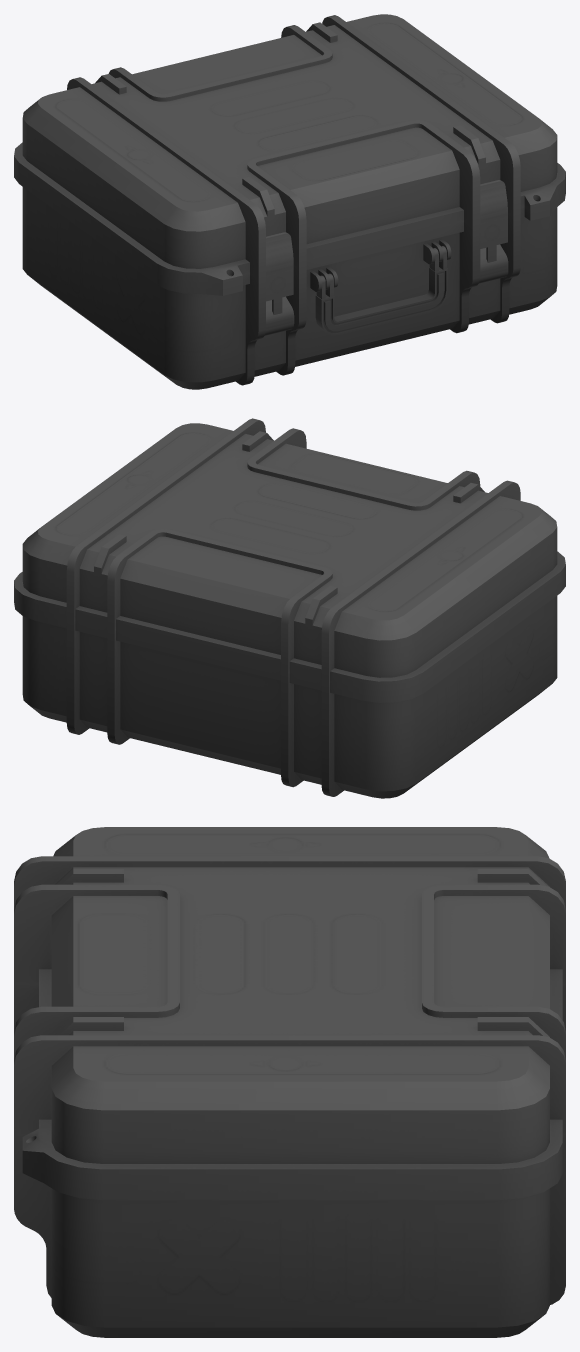
File: case_low.fbx
3 views of the same model, one above another, from view 1: azimuth 30°, elevation 25°; view 2: azimuth 150°, elevation 25°; view 3: azimuth 270°, elevation 25° (orthographic). The views are drawn at different scales.
Visible parts, largest first — view 1: caseup_low, case_low, casehandle_low, caseop_low.001, caseop_low, casedeco_low; view 2: caseup_low, case_low; view 3: caseup_low, case_low.
Boxes of the visible parts, x1=… form: caseup_low: x1=14, y1=14, x2=565, y2=285; case_low: x1=14, y1=167, x2=565, y2=389; casehandle_low: x1=315, y1=246, x2=447, y2=335; caseop_low.001: x1=480, y1=180, x2=507, y2=262; caseop_low: x1=266, y1=232, x2=293, y2=314; casedeco_low: x1=264, y1=244, x2=508, y2=335; caseup_low: x1=14, y1=418, x2=565, y2=692; case_low: x1=14, y1=576, x2=565, y2=798; caseup_low: x1=14, y1=827, x2=565, y2=1184; case_low: x1=14, y1=984, x2=565, y2=1337.
Size of the model in its own units: 66.66 by 29.44 by 54.84.
1 material, 1 textured.
